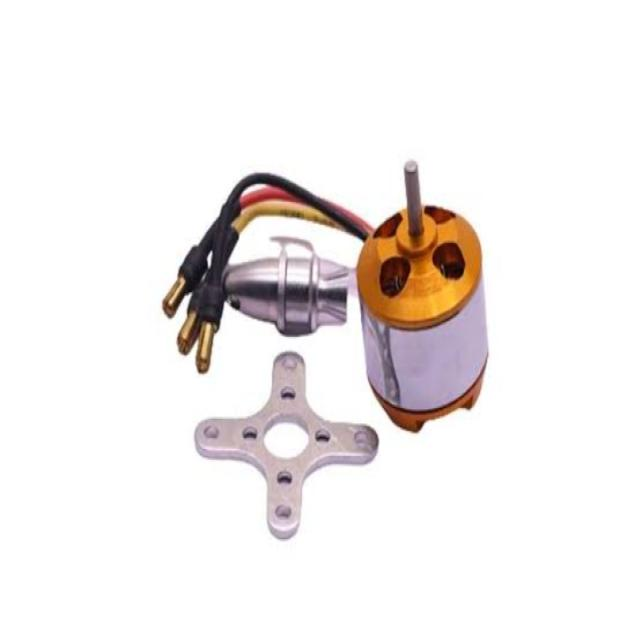motor: (356, 166, 488, 431)
